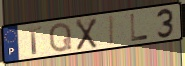3: (156, 7, 175, 40)
I: (109, 14, 116, 47)
L: (129, 12, 150, 43)
Q: (48, 21, 73, 54)
T: (24, 25, 43, 56)
X: (75, 17, 98, 51)
